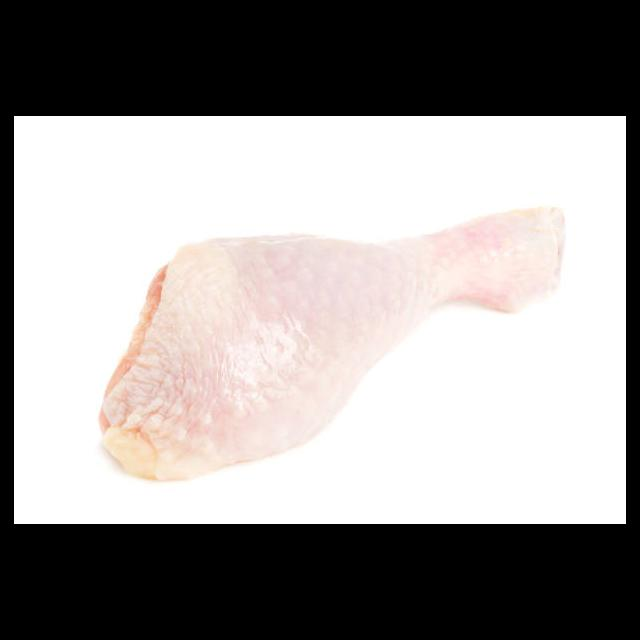chicken: (98, 204, 568, 485)
